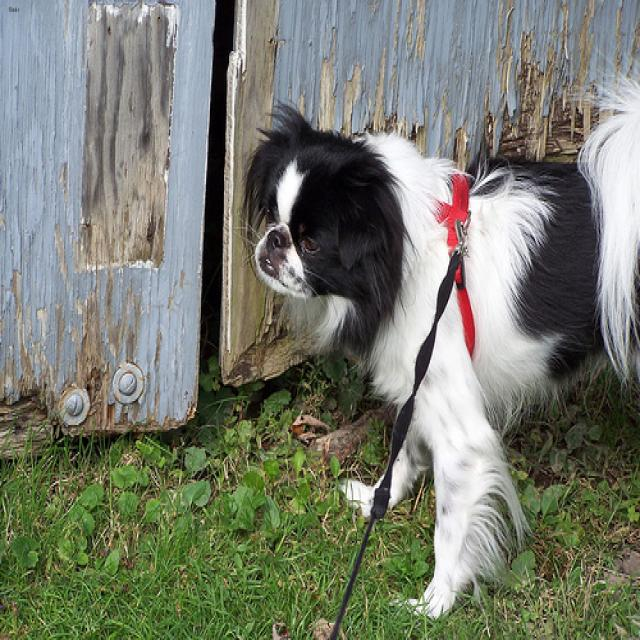dog-japanese_chin: (234, 67, 637, 623)
